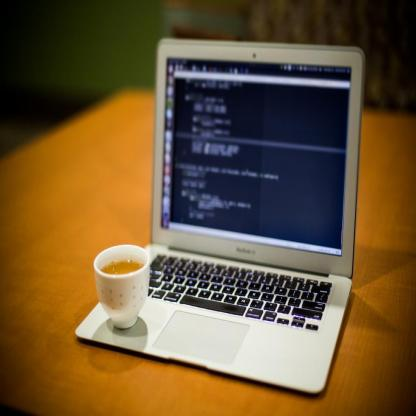board: (75, 39, 365, 393)
